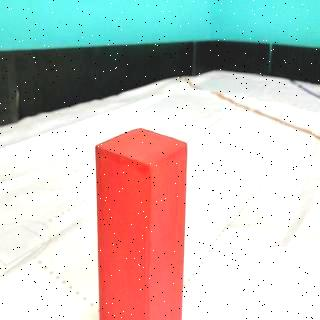redbox: (95, 125, 188, 320)
